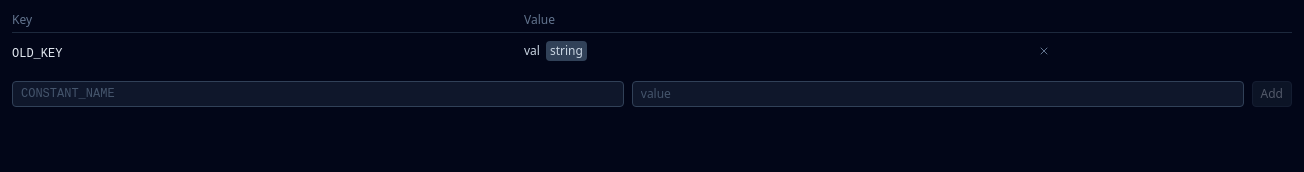
Test: ConstantsSection › clicking key display enters key edit mode
Click the button with test id "constant-key-display-OLD_KEY" at (37, 54), box [12,46,62,62]
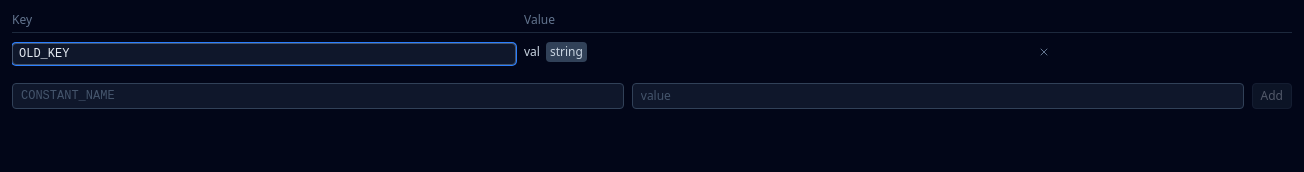
Check: the field with test id "constant-key-input-OLD_KEY" is shown, box [12,43,516,65]
